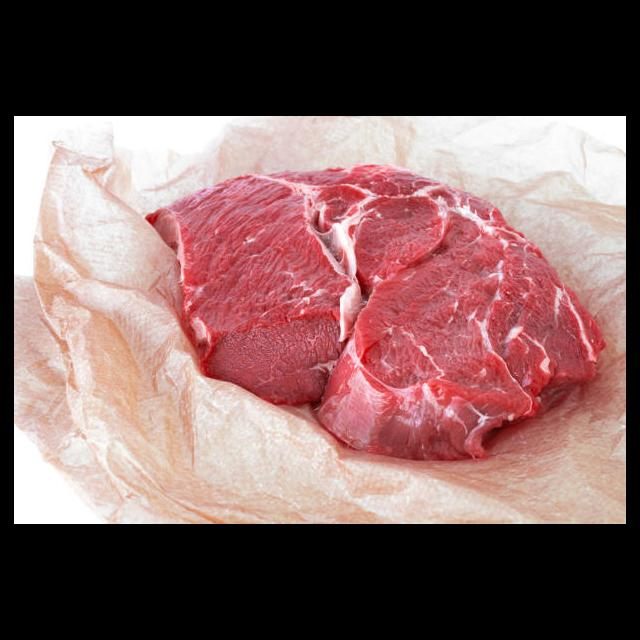beef: (143, 164, 607, 465)
